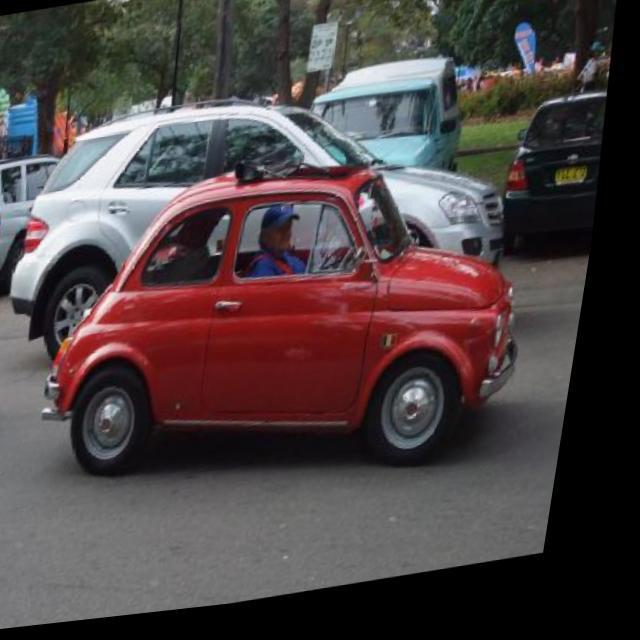license_plate: (562, 177, 597, 200)
